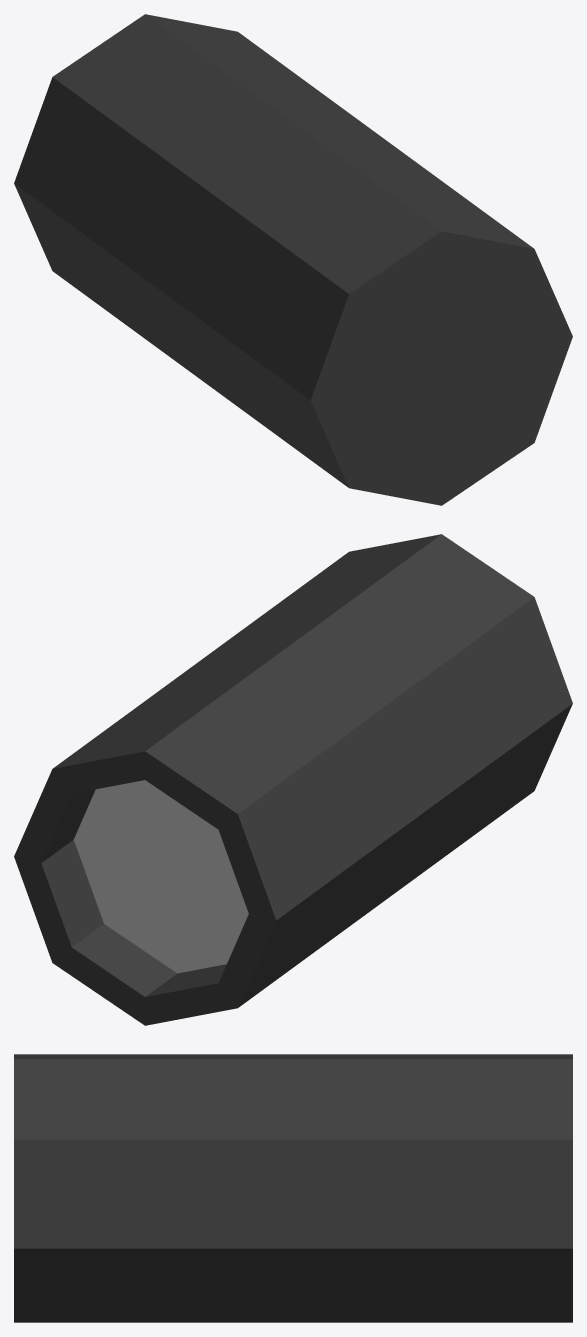
File: exhaust5.glb
3 renders of one model, top to bottom at view 1: azimuth 30°, elevation 25°; view 2: azimuth 150°, elevation 25°; view 3: azimuth 270°, elevation 25°, orthographic. The views are drawn at different scales.
Visible parts, largest first — view 1: exhaust5; view 2: exhaust5; view 3: exhaust5.
Part boxes in pixels (x1=…): exhaust5: x1=14, y1=14, x2=572, y2=505; exhaust5: x1=14, y1=534, x2=572, y2=1025; exhaust5: x1=14, y1=1054, x2=572, y2=1322.
Bounding box in the file's own units: 0.343 × 0.343 × 0.672.
Materials: 1 (1 with a texture image).
